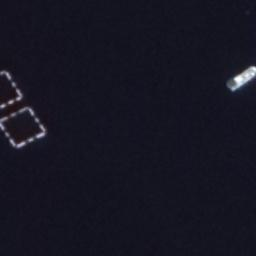square_solid: (1, 103, 50, 152), (1, 66, 26, 111)
